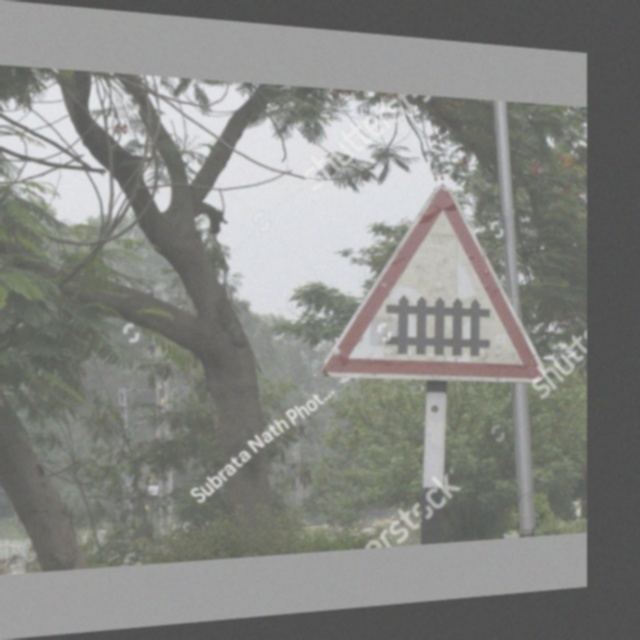Guarded_Level_Crossing: (327, 186, 547, 383)
